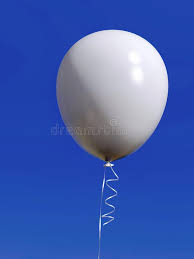Balloon: (57, 29, 168, 160)
